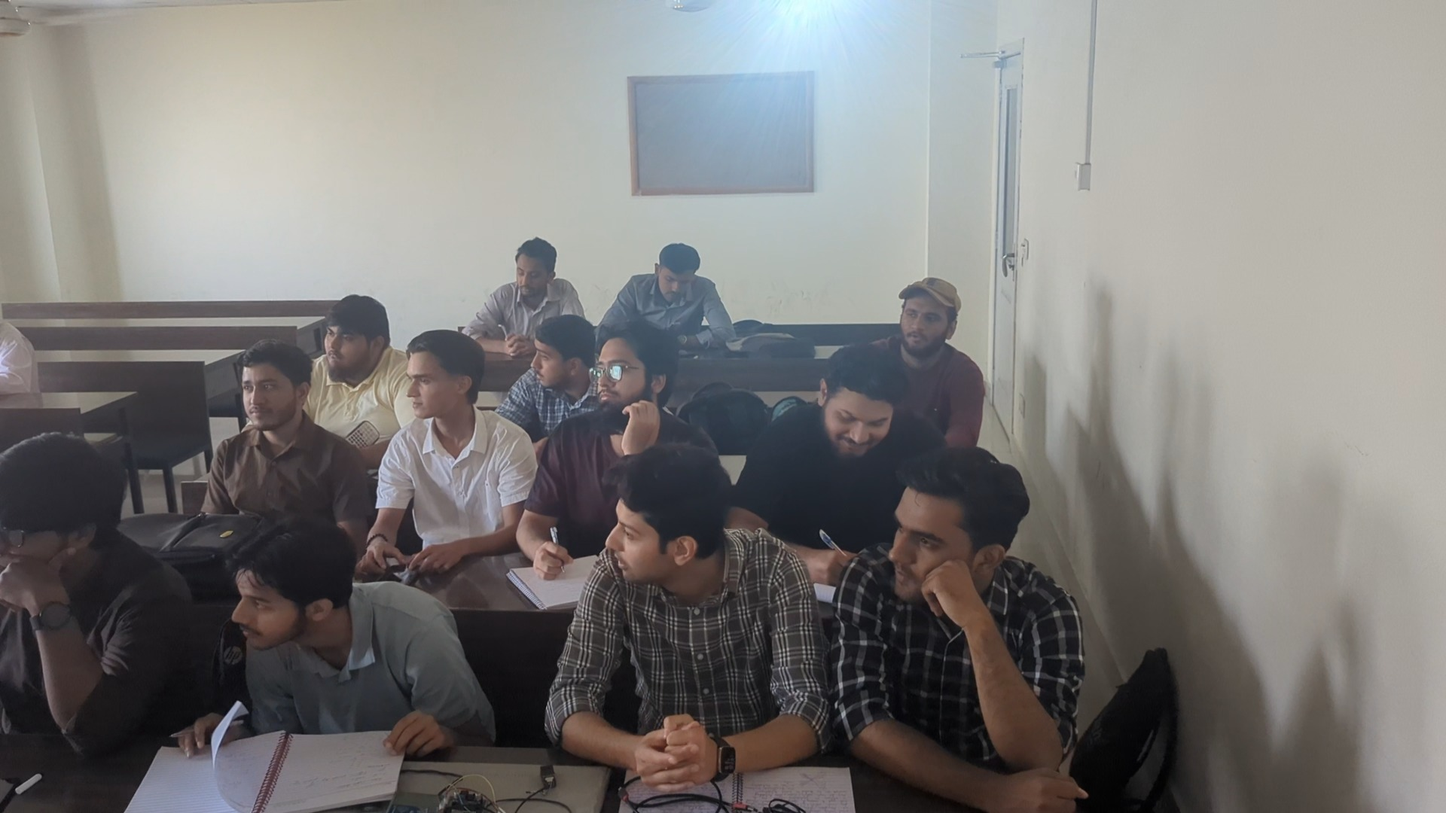look_forward: (810, 441, 1106, 806), (536, 443, 838, 796), (190, 517, 489, 777), (1, 425, 196, 779), (372, 328, 539, 560), (229, 341, 371, 553), (539, 327, 714, 447), (310, 287, 408, 441), (888, 273, 978, 392), (510, 314, 598, 404)
using_device: (466, 234, 564, 360)
write: (738, 345, 916, 551), (608, 242, 731, 341)
